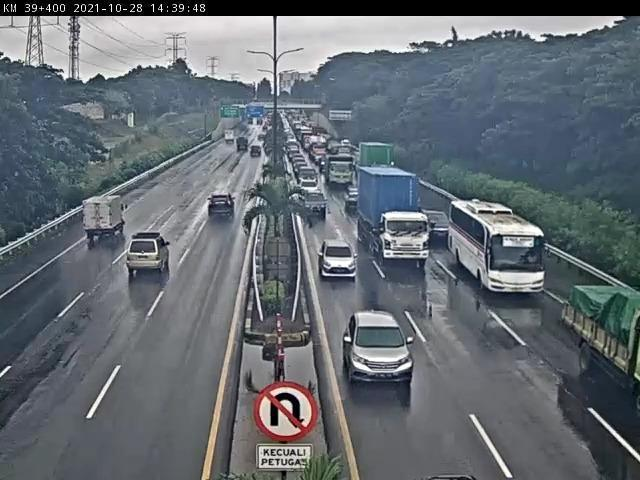bus: (445, 191, 541, 297)
car: (341, 311, 419, 384), (126, 234, 172, 274), (317, 236, 357, 280), (418, 201, 449, 239), (302, 188, 333, 224), (208, 190, 239, 218), (297, 167, 322, 191), (343, 183, 360, 211)
truck: (564, 277, 640, 411), (356, 164, 424, 260), (82, 193, 133, 241)
